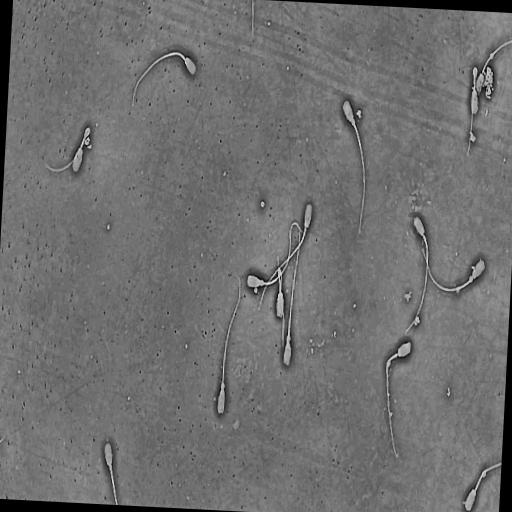dirt-particles: (482, 63, 495, 102), (413, 315, 421, 328), (84, 136, 91, 148), (356, 108, 362, 121), (260, 200, 265, 210)
distal-droplet: (480, 467, 489, 482), (489, 52, 495, 61), (386, 359, 391, 368)
folded-tail: (45, 125, 92, 173), (466, 66, 478, 158), (277, 266, 285, 358)
normal: (258, 200, 314, 311), (245, 220, 305, 290), (130, 49, 198, 109), (215, 275, 241, 416), (341, 97, 367, 236), (385, 339, 413, 460), (403, 214, 429, 336), (421, 245, 486, 293), (282, 224, 302, 368), (45, 123, 91, 175), (474, 38, 512, 99), (463, 460, 502, 512), (466, 65, 480, 158), (103, 439, 119, 504), (275, 265, 286, 359)
proximal-droplet: (286, 334, 291, 343), (469, 275, 473, 284), (221, 382, 225, 389), (352, 119, 355, 127), (260, 280, 263, 286), (109, 464, 112, 470)
